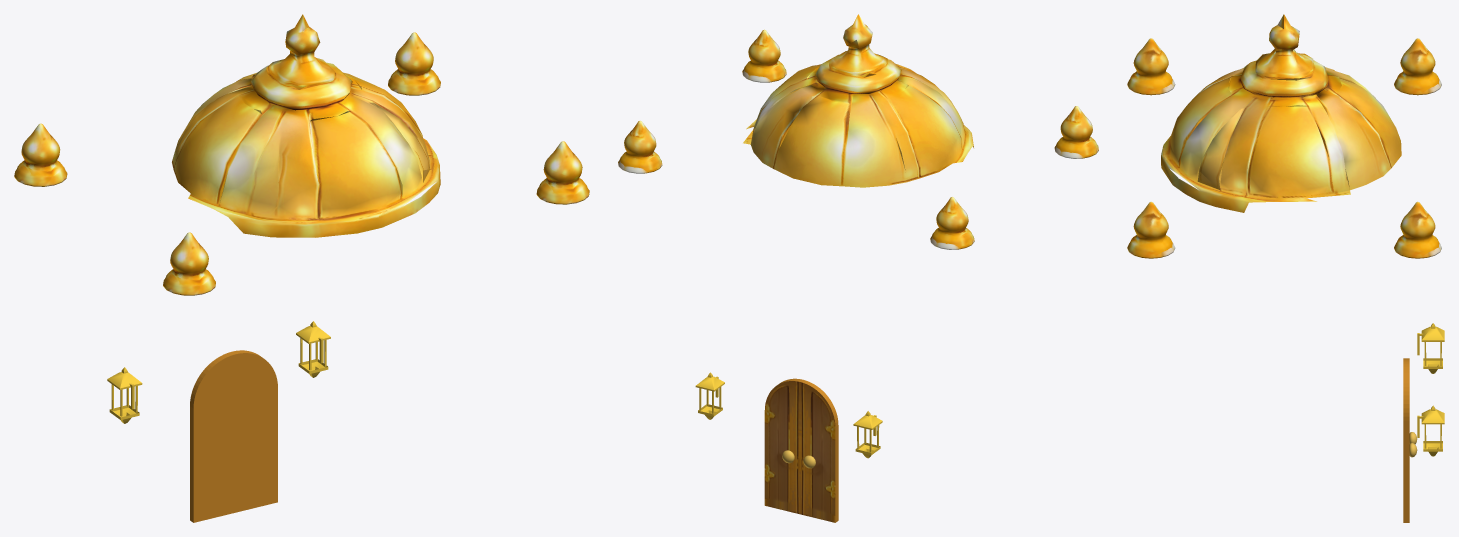
The model's file is HaloDomeHouse_08_deco.glb.
3 views of the same model, side by side, from view 1: azimuth 30°, elevation 25°; view 2: azimuth 150°, elevation 25°; view 3: azimuth 270°, elevation 25° (orthographic). The views are drawn at different scales.
Parts seen in each view (by area): view 1: HaloDomeHouse_08_Dome, HaloDomeHouse_08_Leaf0, HaloDomeHouse_08_Leaf1, HaloDomeHouse_08_Finial0, HaloDomeHouse_08_Finial2, HaloDomeHouse_08_Finial3, HaloDomeHouse_08_Finial1, HaloDomeHouse_08_Lantern1, HaloDomeHouse_08_Lantern0; view 2: HaloDomeHouse_08_Dome, HaloDomeHouse_08_Leaf0, HaloDomeHouse_08_Leaf1, HaloDomeHouse_08_Finial0, HaloDomeHouse_08_Finial3, HaloDomeHouse_08_Finial2, HaloDomeHouse_08_Finial1, HaloDomeHouse_08_Lantern1, HaloDomeHouse_08_Lantern0; view 3: HaloDomeHouse_08_Dome, HaloDomeHouse_08_Finial2, HaloDomeHouse_08_Finial0, HaloDomeHouse_08_Finial3, HaloDomeHouse_08_Finial1, HaloDomeHouse_08_Leaf1, HaloDomeHouse_08_Lantern1, HaloDomeHouse_08_Lantern0.
Part boxes in pixels (x1,y1,x2,y2): HaloDomeHouse_08_Dome: (172,14,440,237); HaloDomeHouse_08_Leaf0: (190,351,235,522); HaloDomeHouse_08_Leaf1: (232,350,277,512); HaloDomeHouse_08_Finial0: (14,123,67,186); HaloDomeHouse_08_Finial2: (536,141,589,204); HaloDomeHouse_08_Finial3: (388,32,440,95); HaloDomeHouse_08_Finial1: (163,232,215,295); HaloDomeHouse_08_Lantern1: (296,321,330,377); HaloDomeHouse_08_Lantern0: (107,367,142,423); HaloDomeHouse_08_Dome: (743,14,973,187); HaloDomeHouse_08_Leaf0: (800,379,838,522); HaloDomeHouse_08_Leaf1: (764,378,802,514); HaloDomeHouse_08_Finial0: (930,197,974,249); HaloDomeHouse_08_Finial3: (618,120,662,173); HaloDomeHouse_08_Finial2: (742,29,786,82); HaloDomeHouse_08_Finial1: (1054,106,1098,158); HaloDomeHouse_08_Lantern1: (695,372,724,419); HaloDomeHouse_08_Lantern0: (853,411,882,458); HaloDomeHouse_08_Dome: (1161,14,1401,212); HaloDomeHouse_08_Finial2: (1127,201,1175,258); HaloDomeHouse_08_Finial0: (1394,38,1441,95); HaloDomeHouse_08_Finial3: (1394,201,1441,258); HaloDomeHouse_08_Finial1: (1127,38,1175,95); HaloDomeHouse_08_Leaf1: (1403,362,1409,522); HaloDomeHouse_08_Lantern1: (1417,405,1444,456); HaloDomeHouse_08_Lantern0: (1417,323,1444,373).
Size of the model in its own units: 21.35 by 26.6 by 15.59.
5 materials, 3 textured.
